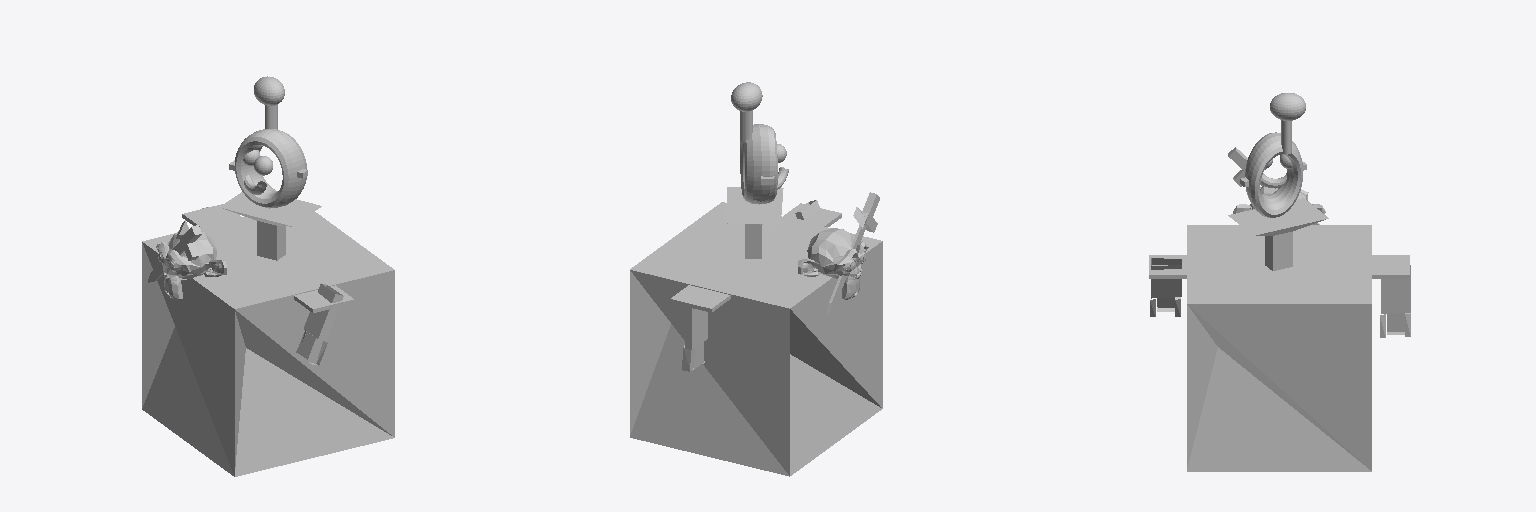
The model's file is Robot_000011.obj.
3 renders of one model, left to right at view 1: azimuth 30°, elevation 25°; view 2: azimuth 150°, elevation 25°; view 3: azimuth 270°, elevation 25°, orthographic.
Parts seen in each view (by area): view 1: Cube.001_Cube, Cube_Cube.001, Suzanne, Left_Hand.001_Cube.005, Cube.002_Cube.004, Cube.003_Cube.006, Sphere; view 2: Cube.001_Cube, Cube_Cube.001, Suzanne, Cube.002_Cube.004, Left_Hand_Cube.002, Cube.003_Cube.006, Sphere; view 3: Cube.001_Cube, Cube_Cube.001, Left_Hand_Cube.002, Cube.002_Cube.004, Left_Hand.001_Cube.005, Sphere.
Boxes of the visible parts, x1=… form: Cube.001_Cube: x1=142, y1=212, x2=394, y2=476; Cube_Cube.001: x1=220, y1=129, x2=321, y2=260; Suzanne: x1=156, y1=231, x2=226, y2=299; Left_Hand.001_Cube.005: x1=296, y1=283, x2=343, y2=365; Cube.002_Cube.004: x1=182, y1=204, x2=354, y2=312; Cube.003_Cube.006: x1=148, y1=220, x2=201, y2=282; Sphere: x1=254, y1=76, x2=284, y2=105; Cube.001_Cube: x1=630, y1=202, x2=882, y2=476; Cube_Cube.001: x1=726, y1=124, x2=783, y2=258; Suzanne: x1=798, y1=228, x2=868, y2=299; Cube.002_Cube.004: x1=670, y1=203, x2=841, y2=312; Left_Hand_Cube.002: x1=682, y1=303, x2=707, y2=371; Cube.003_Cube.006: x1=826, y1=192, x2=879, y2=315; Sphere: x1=731, y1=82, x2=762, y2=111; Cube.001_Cube: x1=1187, y1=225, x2=1371, y2=471; Cube_Cube.001: x1=1228, y1=132, x2=1328, y2=270; Left_Hand_Cube.002: x1=1380, y1=265, x2=1410, y2=337; Cube.002_Cube.004: x1=1149, y1=255, x2=1409, y2=278; Left_Hand.001_Cube.005: x1=1150, y1=258, x2=1181, y2=316; Sphere: x1=1270, y1=93, x2=1305, y2=120.
Size of the model in its own units: 2.3 by 4.06 by 2.83.